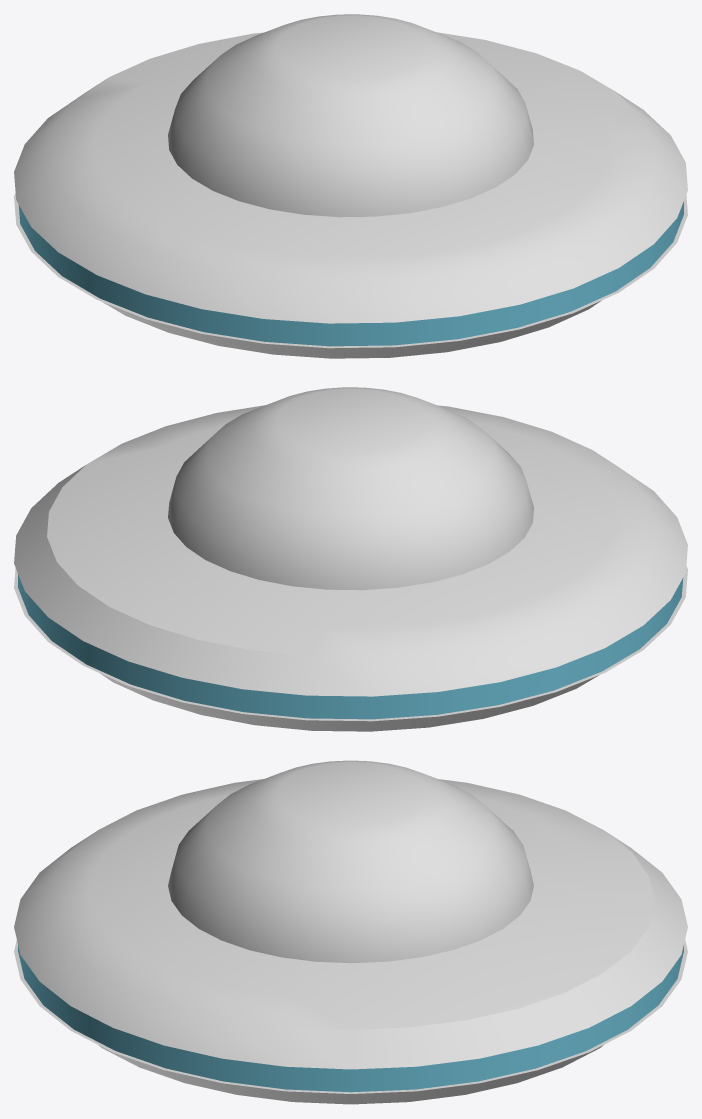
The model's file is UfoBasic.fbx.
The picture shows the model from 3 angles, top to bottom: view 1: azimuth 30°, elevation 25°; view 2: azimuth 150°, elevation 25°; view 3: azimuth 270°, elevation 25°; orthographic projection.
Parts seen in each view (by area): view 1: Circle; view 2: Circle; view 3: Circle.
Boxes of the visible parts, bbox=[...] form: Circle: bbox=[14, 14, 687, 358]; Circle: bbox=[14, 387, 687, 731]; Circle: bbox=[14, 760, 687, 1104].
Bounding box in the file's own units: 200 × 64.74 × 200.
